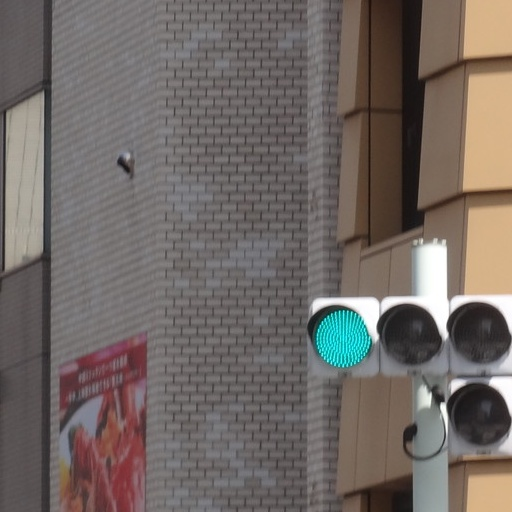Traffic_Signal_Blue: (307, 288, 509, 380)
